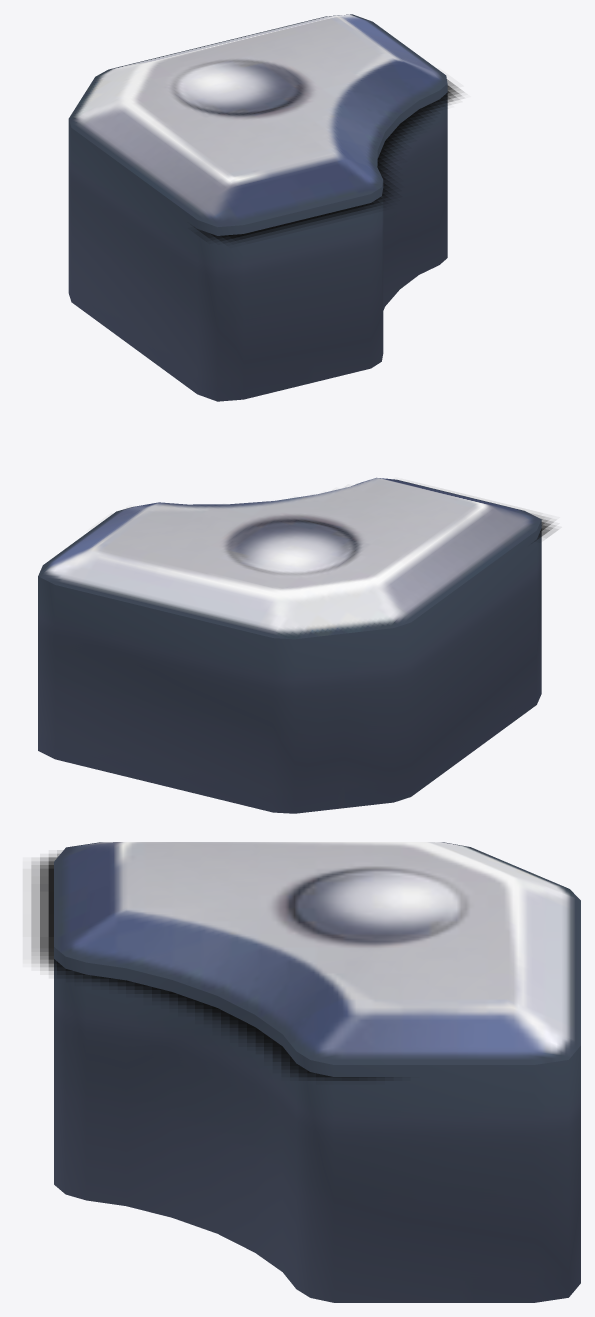
Rendered from StationaryBlock_TopLeft.glb.
The picture shows the model from 3 angles, top to bottom: view 1: azimuth 30°, elevation 25°; view 2: azimuth 150°, elevation 25°; view 3: azimuth 270°, elevation 25°; orthographic projection. The views are drawn at different scales.
Parts seen in each view (by area): view 1: StationaryBlock_TopLeft; view 2: StationaryBlock_TopLeft; view 3: StationaryBlock_TopLeft.
Boxes of the visible parts, <box> form: StationaryBlock_TopLeft: <box>68,14,462,401</box>; StationaryBlock_TopLeft: <box>38,477,557,813</box>; StationaryBlock_TopLeft: <box>31,842,580,1302</box>.
Size of the model in its own units: 0.3483 by 0.1802 by 0.3441.
Materials: 2 (2 with a texture image).
